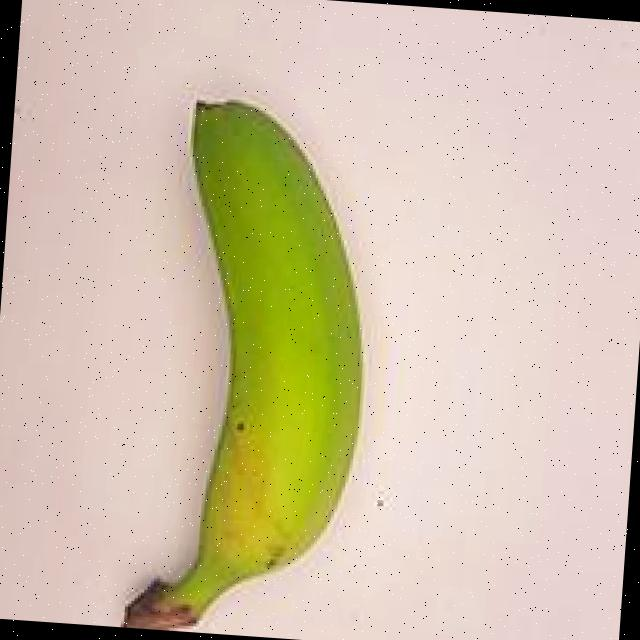Unripe: (56, 67, 423, 640)
